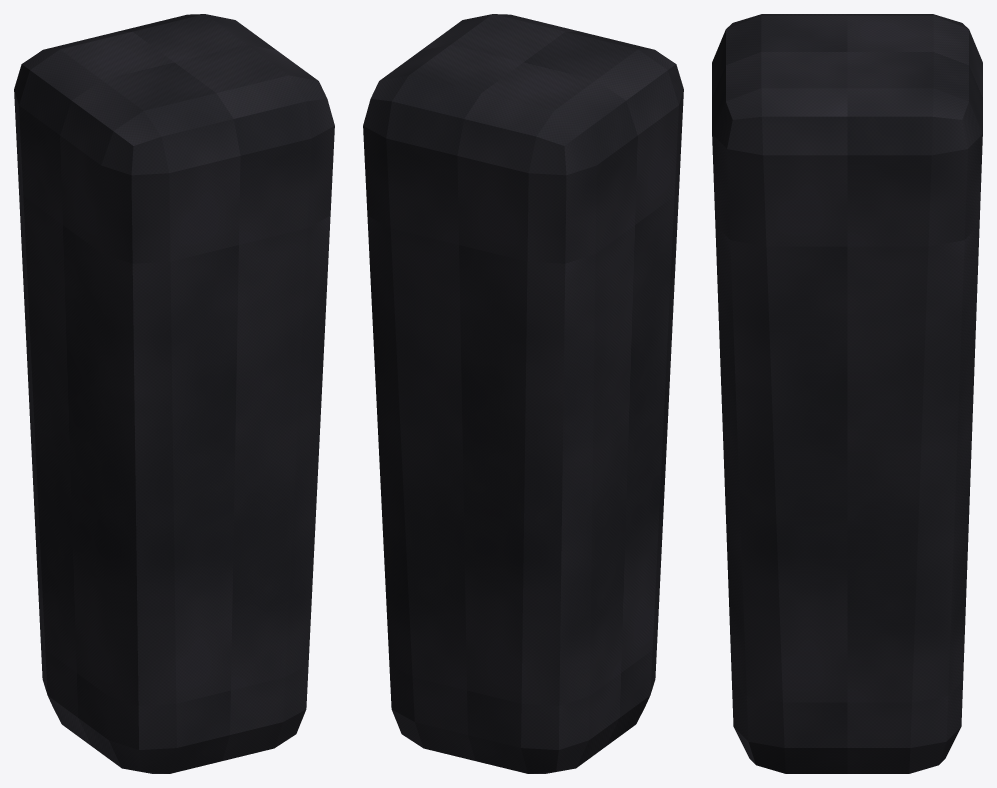
The model's file is Zombie_ArmUpperR.obj.
3 renders of one model, left to right at view 1: azimuth 30°, elevation 25°; view 2: azimuth 150°, elevation 25°; view 3: azimuth 270°, elevation 25°, orthographic. The views are drawn at different scales.
Size of the model in its own units: 0.1326 by 0.375 by 0.1326.
Materials: 1 (1 with a texture image).
